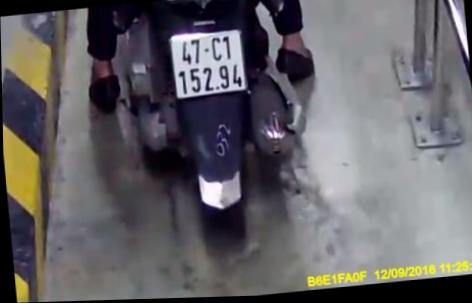LP: (166, 25, 253, 102)
